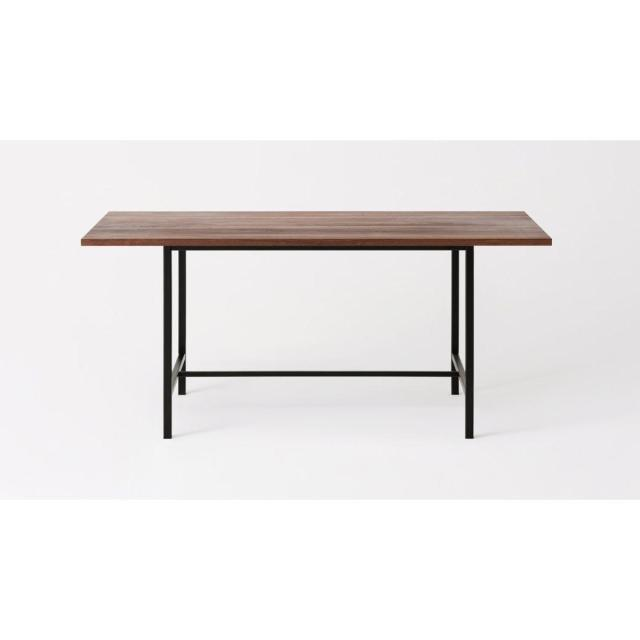table: (70, 190, 588, 466)
